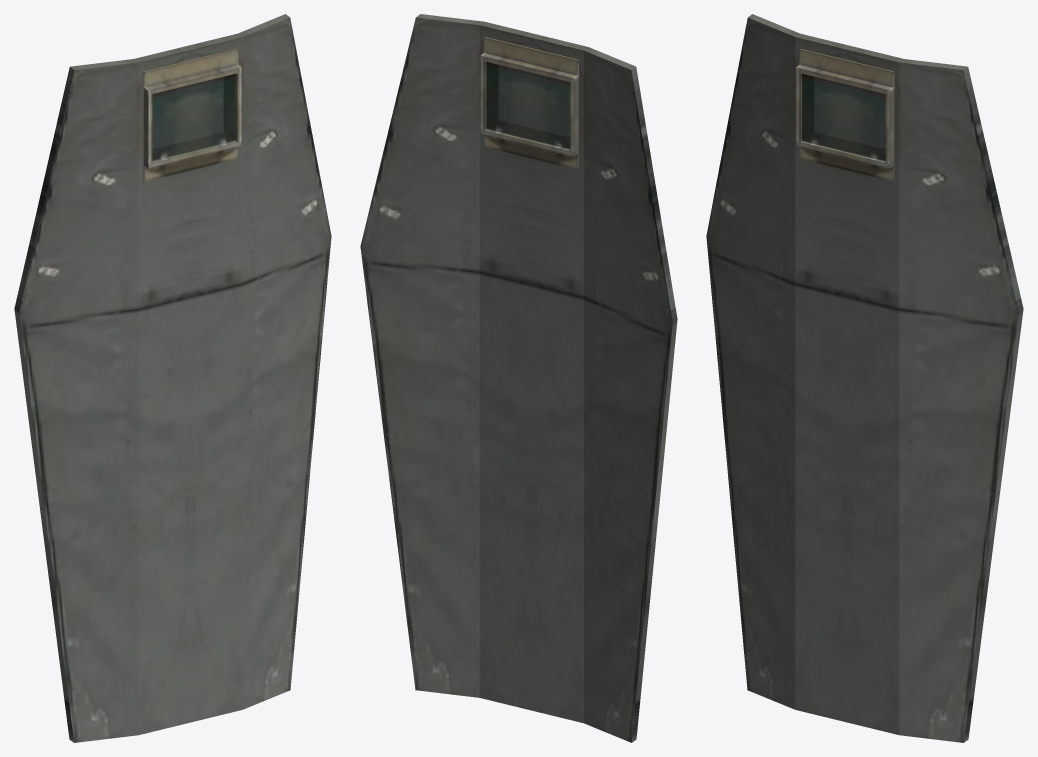
File: shield.gltf
The picture shows the model from 3 angles, left to right: view 1: azimuth 30°, elevation 25°; view 2: azimuth 150°, elevation 25°; view 3: azimuth 330°, elevation 25°; orthographic projection.
Visible parts, largest first — view 1: Shield; view 2: Shield; view 3: Shield.
Boxes of the visible parts, <box> form: Shield: <box>14,14,331,742</box>; Shield: <box>360,14,677,742</box>; Shield: <box>706,14,1023,742</box>.
Bounding box in the file's own units: 0.8669 × 1.78 × 0.1174.
Materials: 1 (1 with a texture image).
